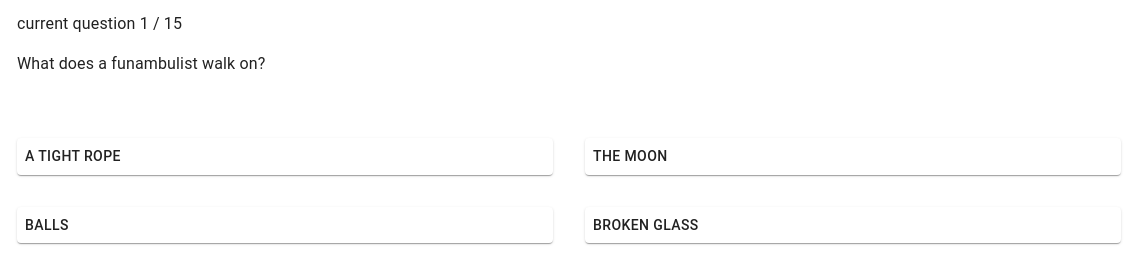
Test: quiz tower › should show next question after selecting the right answer on the first question
The width and height of the screenshot is (1139, 262).
Expected: the text "current question 1 / 15" is shown, top-left (17, 14), bottom-right (182, 33)
Click the button "A Tight Rope".
click(73, 156)  # box top-left (17, 138), bottom-right (553, 174)
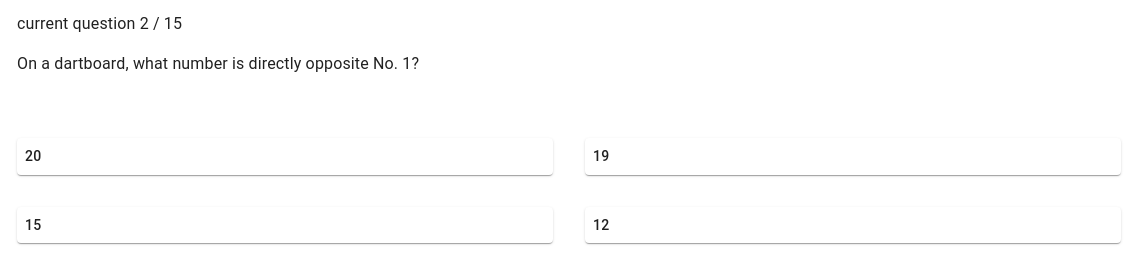
Expected: the text "On a dartboard, what number is directly opposite No. 1?" is shown, top-left (17, 54), bottom-right (419, 73)
Expected: the text "What does a funambulist walk on?" is gone
Expected: the text "current question 2 / 15" is shown, top-left (17, 14), bottom-right (182, 33)
